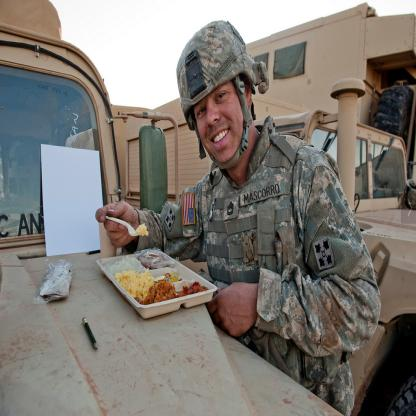Helmet: (175, 25, 266, 160), (398, 176, 416, 210)
